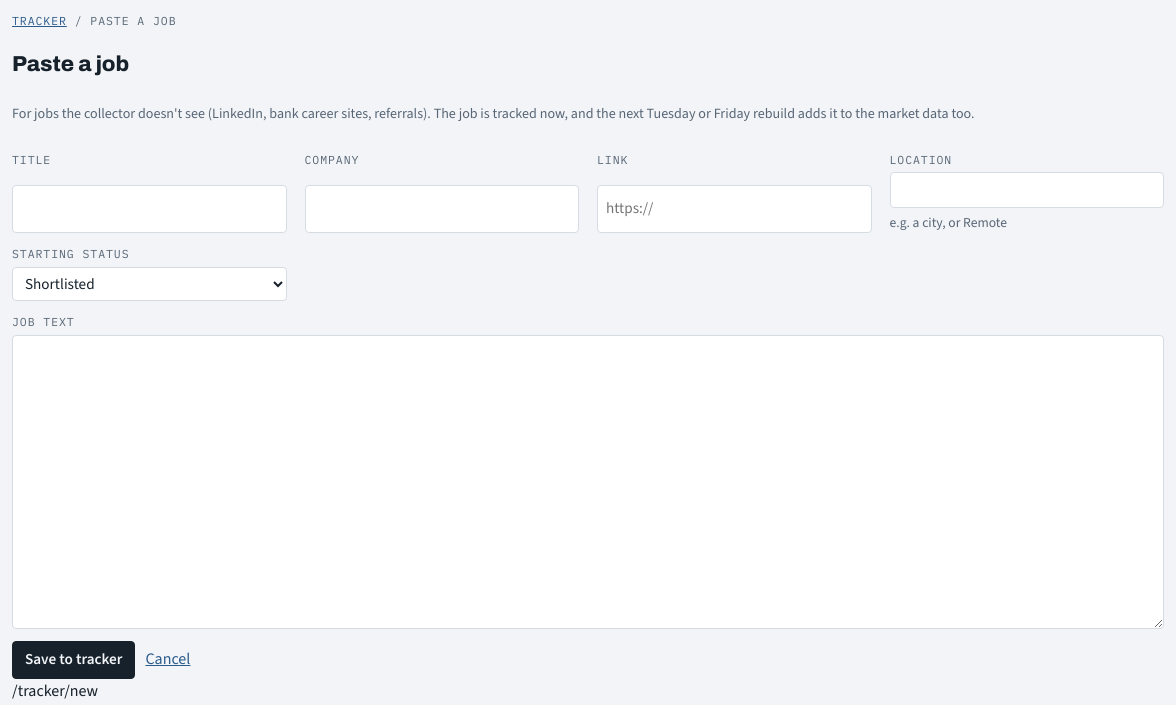
Paste a job › shows the API's message next to the field it names
Type "Dev" into the field labelled "Title" at (149, 209), box top-left (12, 185), bottom-right (286, 233)
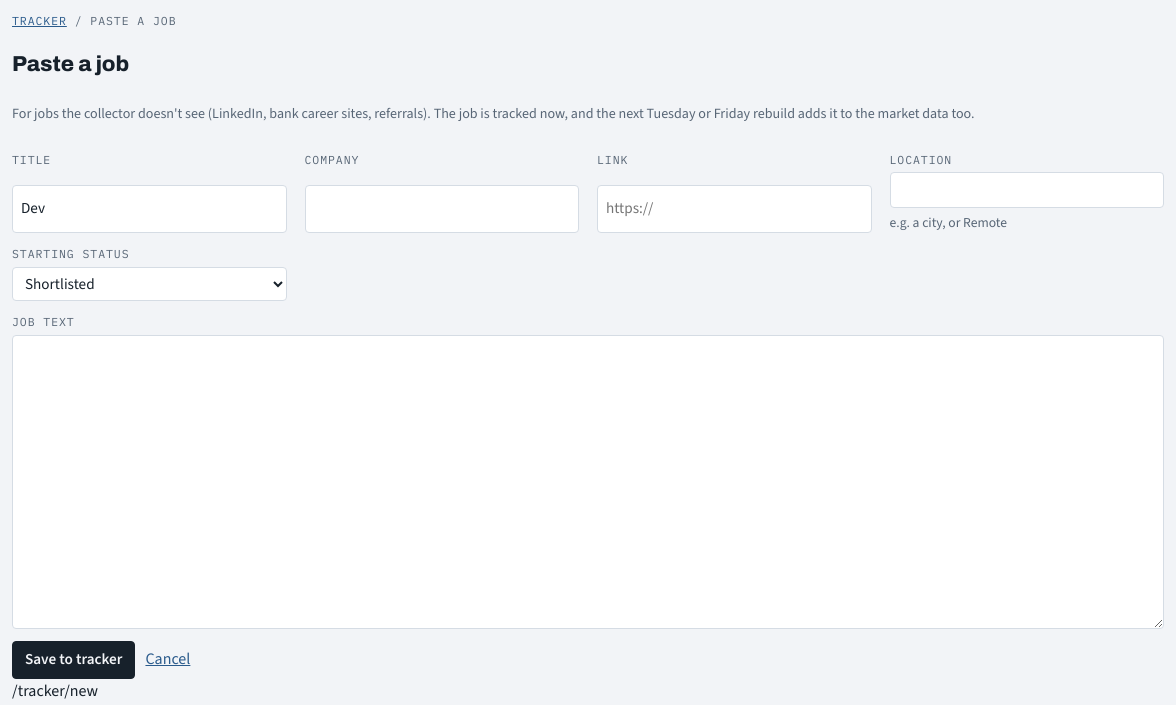
Type "Acme" into the field labelled "Company" at (442, 209), box top-left (304, 185), bottom-right (579, 233)
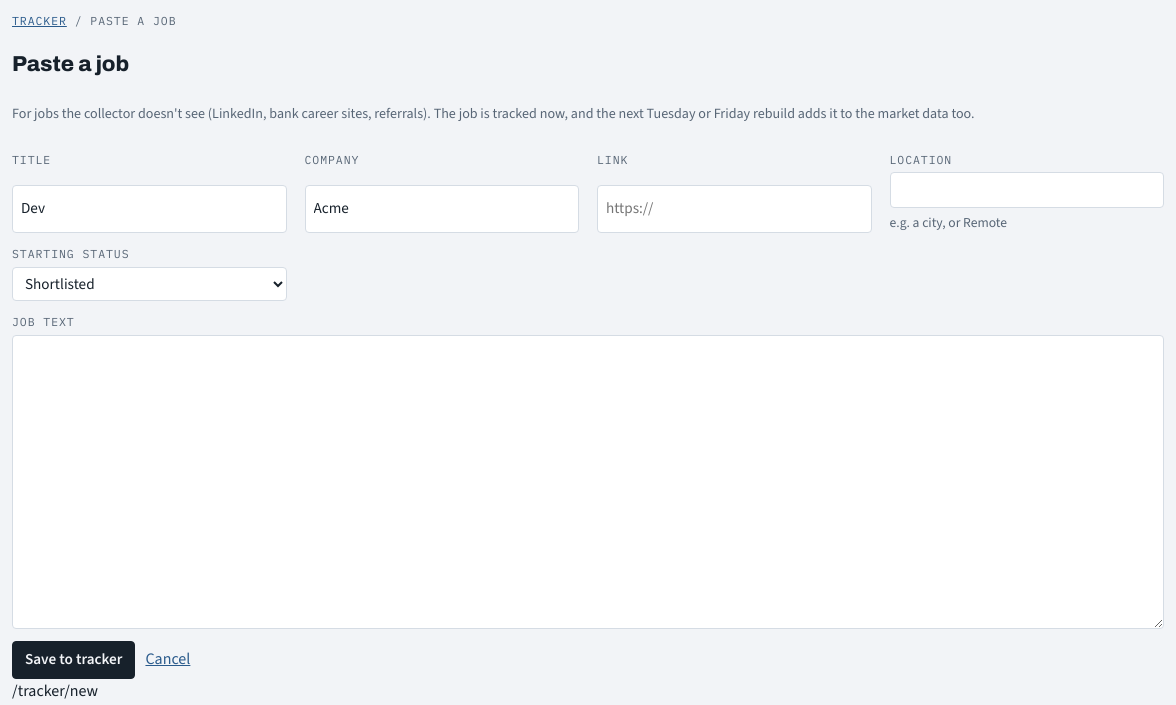
Type "x" into the text box labelled "Job text" at (588, 482), box top-left (12, 335), bottom-right (1164, 629)
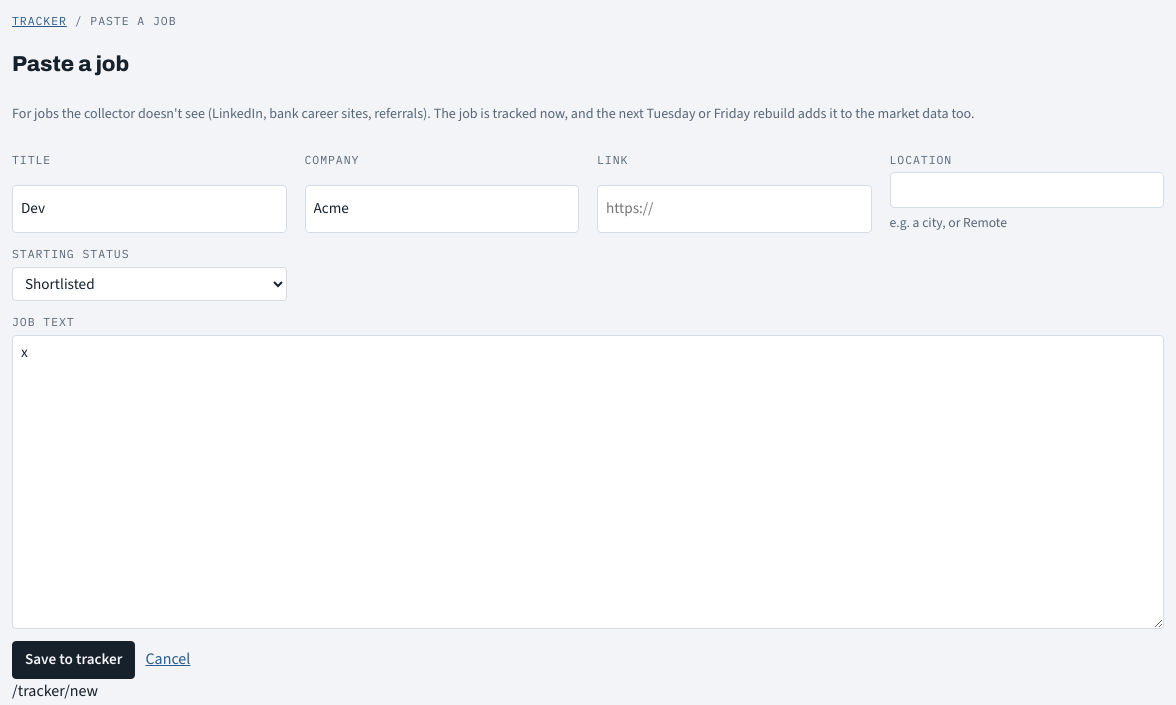
Click the button "Save to tracker" at (74, 660), box top-left (12, 641), bottom-right (136, 679)
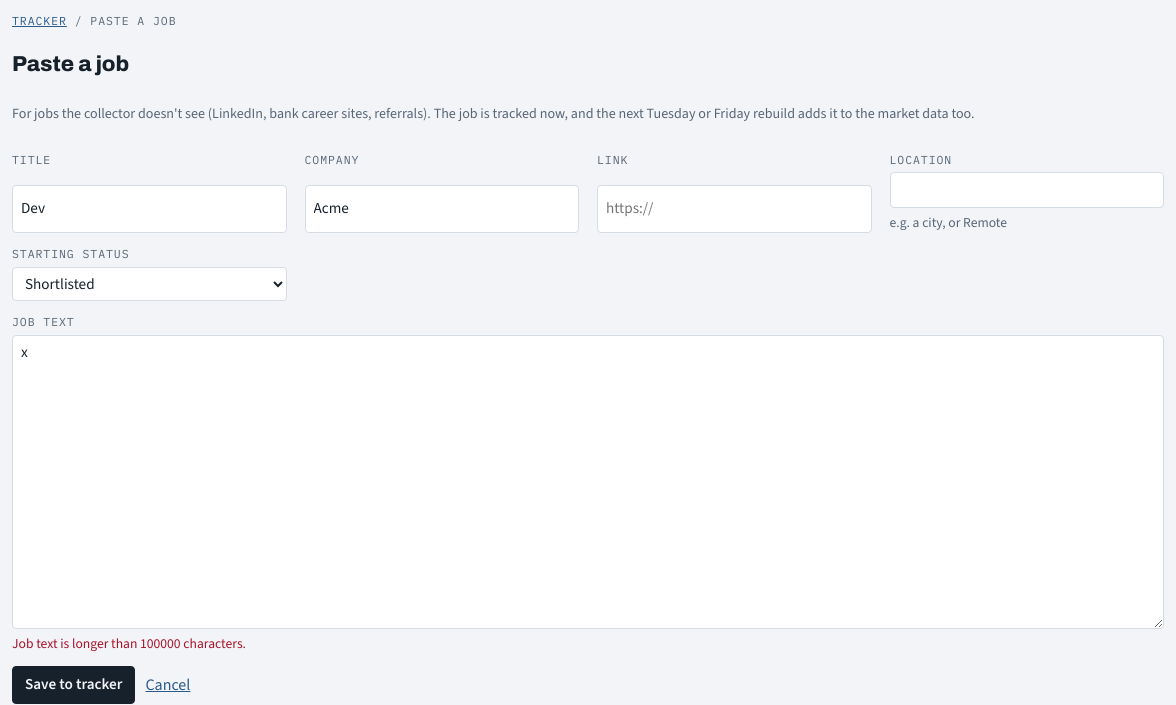
Expected: the text "Job text is longer than 100000 characters." is shown, top-left (12, 634), bottom-right (246, 652)
